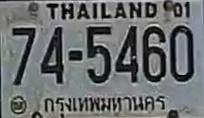0: (169, 25, 193, 82)
4: (40, 26, 63, 83), (115, 25, 137, 82)
5: (86, 26, 111, 82)
6: (142, 26, 165, 82)
7: (11, 27, 35, 85)
BKK: (39, 91, 171, 117)
